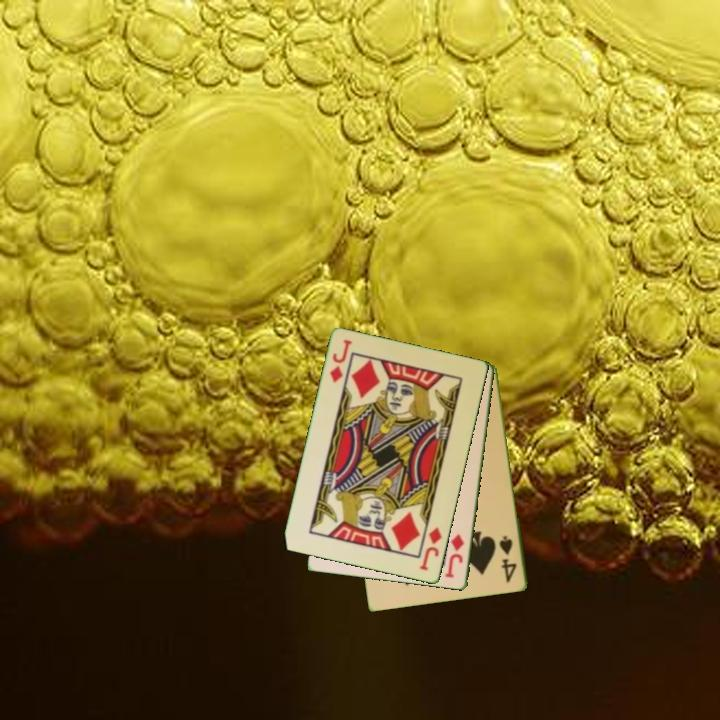4s: (496, 532, 520, 586)
Jd: (416, 524, 445, 574), (327, 336, 355, 386), (442, 531, 467, 581)
